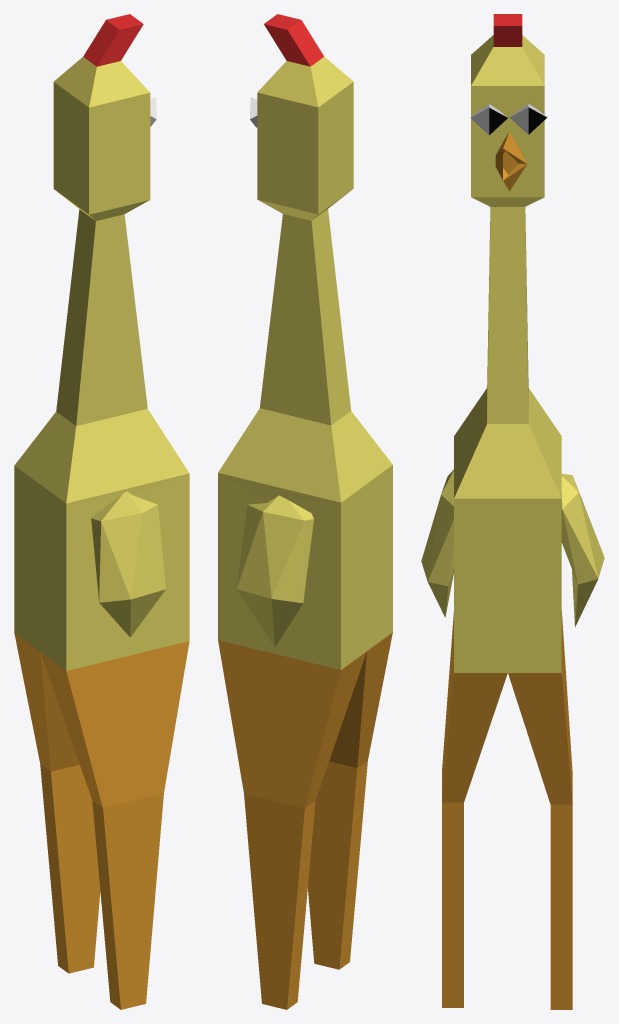
File: Rubber Chicken.fbx
3 renders of one model, left to right at view 1: azimuth 30°, elevation 25°; view 2: azimuth 150°, elevation 25°; view 3: azimuth 270°, elevation 25°, orthographic. The views are drawn at different scales.
Parts seen in each view (by area): view 1: Rubber Chicken; view 2: Rubber Chicken; view 3: Rubber Chicken.
Part boxes in pixels (x1,y1,x2,y2): Rubber Chicken: (14,14,189,1009); Rubber Chicken: (218,14,392,1009); Rubber Chicken: (421,14,604,1009).
Bounding box in the file's own units: 11.24 × 83.42 × 13.94.
